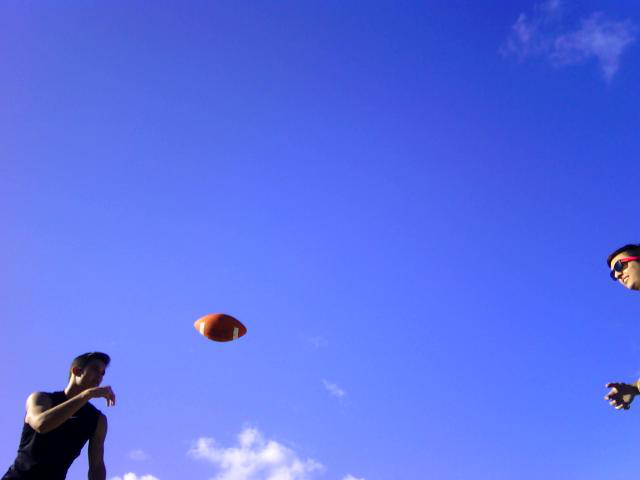football: (190, 309, 254, 346)
